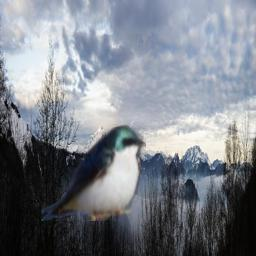Swallow: (41, 124, 146, 221)
